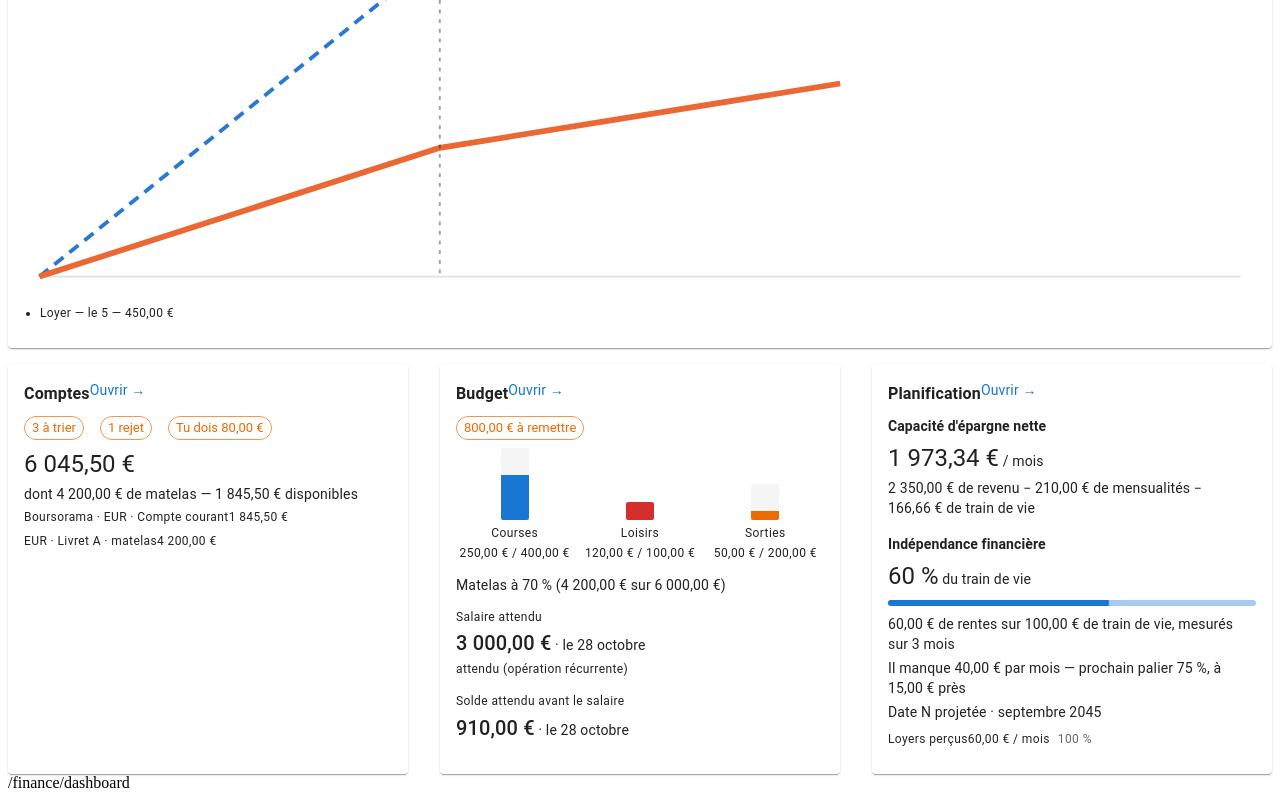
Test: FinanceDashboardPage › the owed pill opens Créances et dettes
The image size is (1280, 800).
(page scrolled)
Click the link with test id "pill-owed" at [220, 428], box [168,416,272,440]
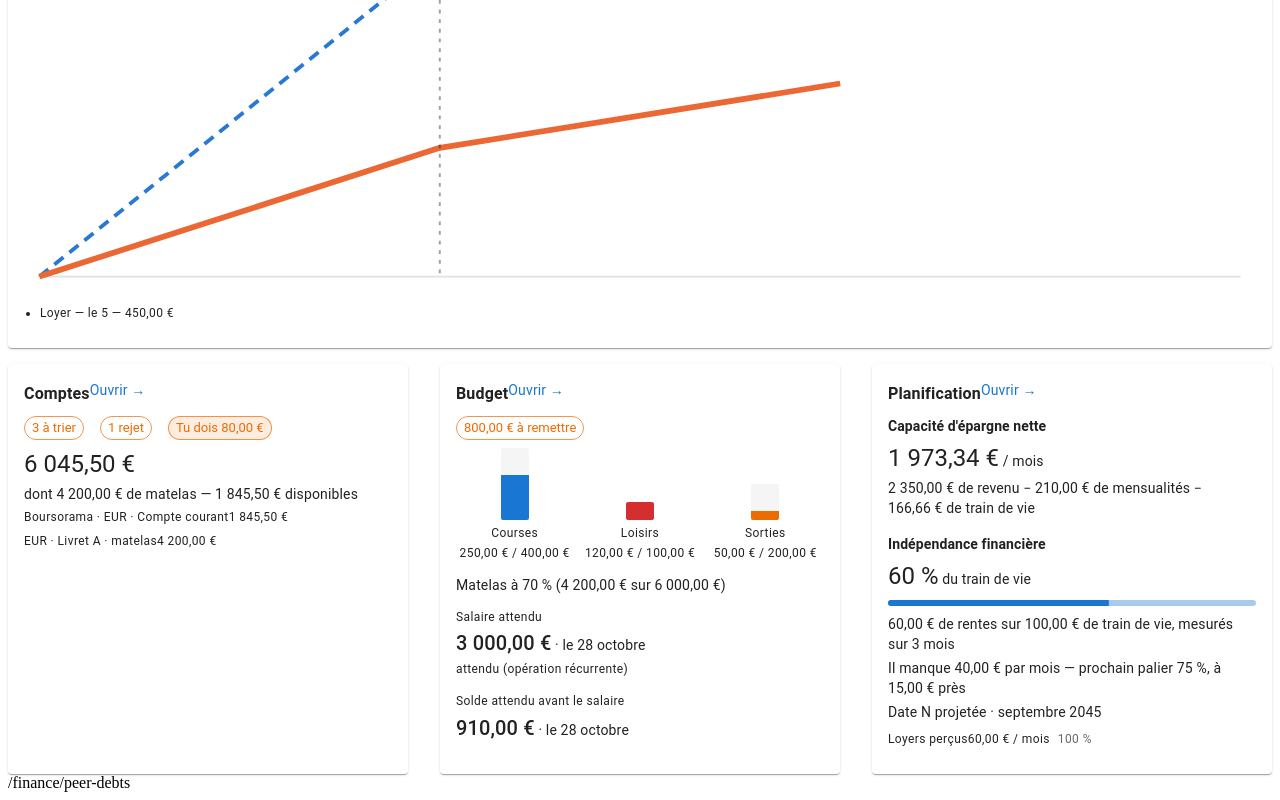
Check: the text with test id "where" reads "/finance/peer-debts", box [8,774,130,791]
